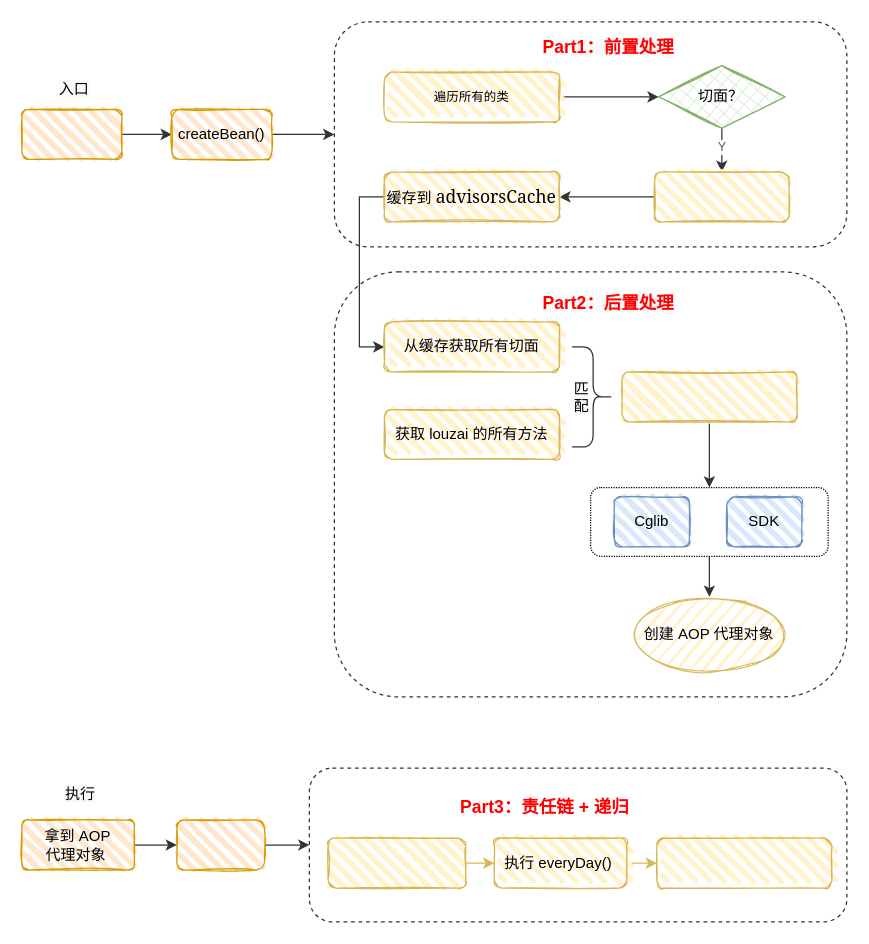
The diagram is 869 pixels wide and 944 high, and some of its shapes have lost their labels. Each missing label, with the box of its shape:
everyDay(): (176, 819, 264, 870)
louzai 的切面方法列表: (621, 371, 797, 422)
refresh(): (21, 108, 122, 159)
执行 myAfterReturning(): (656, 837, 832, 888)
执行 myBefore(): (327, 837, 466, 888)
获取切面列表: (653, 171, 789, 222)
